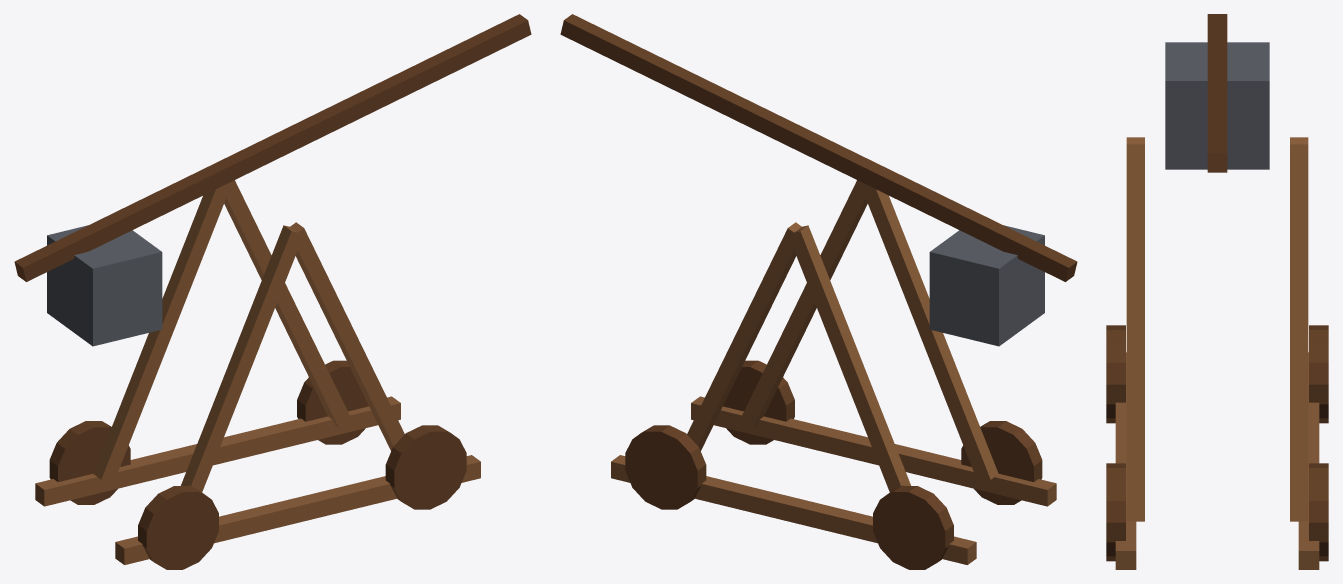
Rendered from SM_Siege_Trebuchet_A.fbx.
The picture shows the model from 3 angles, left to right: view 1: azimuth 30°, elevation 25°; view 2: azimuth 150°, elevation 25°; view 3: azimuth 270°, elevation 25°; orthographic projection. The views are drawn at different scales.
Visible parts, largest first — view 1: SM_Siege_Trebuchet_A_ThrowingArm, SM_Siege_Trebuchet_A_Counterweight, SM_Siege_Trebuchet_A_Base_R, SM_Siege_Trebuchet_A_Frame_L_1.25, SM_Siege_Trebuchet_A_Frame_L_-1.25, SM_Siege_Trebuchet_A, SM_Siege_Trebuchet_A_Wheel_2.5_-1.55, SM_Siege_Trebuchet_A_Wheel_-2.5_-1.55, SM_Siege_Trebuchet_A_Frame_R_1.25, SM_Siege_Trebuchet_A_Frame_R_-1.25, SM_Siege_Trebuchet_A_Wheel_-2.5_1.55, SM_Siege_Trebuchet_A_Wheel_2.5_1.55; view 2: SM_Siege_Trebuchet_A_ThrowingArm, SM_Siege_Trebuchet_A_Counterweight, SM_Siege_Trebuchet_A, SM_Siege_Trebuchet_A_Frame_L_-1.25, SM_Siege_Trebuchet_A_Frame_L_1.25, SM_Siege_Trebuchet_A_Base_R, SM_Siege_Trebuchet_A_Wheel_2.5_1.55, SM_Siege_Trebuchet_A_Wheel_-2.5_1.55, SM_Siege_Trebuchet_A_Frame_R_-1.25, SM_Siege_Trebuchet_A_Frame_R_1.25, SM_Siege_Trebuchet_A_Wheel_-2.5_-1.55, SM_Siege_Trebuchet_A_Wheel_2.5_-1.55; view 3: SM_Siege_Trebuchet_A_Counterweight, SM_Siege_Trebuchet_A_Frame_R_-1.25, SM_Siege_Trebuchet_A_Frame_R_1.25, SM_Siege_Trebuchet_A_ThrowingArm, SM_Siege_Trebuchet_A_Wheel_-2.5_-1.55, SM_Siege_Trebuchet_A_Wheel_-2.5_1.55, SM_Siege_Trebuchet_A_Wheel_2.5_-1.55, SM_Siege_Trebuchet_A_Wheel_2.5_1.55, SM_Siege_Trebuchet_A, SM_Siege_Trebuchet_A_Base_R.
Part boxes in pixels (x1,y1,x2,y2): SM_Siege_Trebuchet_A_ThrowingArm: (14, 14, 531, 281); SM_Siege_Trebuchet_A_Counterweight: (47, 225, 162, 346); SM_Siege_Trebuchet_A_Base_R: (35, 396, 400, 506); SM_Siege_Trebuchet_A_Frame_L_1.25: (93, 187, 226, 482); SM_Siege_Trebuchet_A_Frame_L_-1.25: (181, 225, 297, 492); SM_Siege_Trebuchet_A: (115, 455, 480, 564); SM_Siege_Trebuchet_A_Wheel_2.5_-1.55: (385, 425, 466, 509); SM_Siege_Trebuchet_A_Wheel_-2.5_-1.55: (138, 485, 218, 569); SM_Siege_Trebuchet_A_Frame_R_1.25: (221, 180, 351, 427); SM_Siege_Trebuchet_A_Frame_R_-1.25: (290, 222, 404, 450); SM_Siege_Trebuchet_A_Wheel_-2.5_1.55: (49, 421, 130, 504); SM_Siege_Trebuchet_A_Wheel_2.5_1.55: (297, 360, 368, 444); SM_Siege_Trebuchet_A_ThrowingArm: (560, 14, 1077, 281); SM_Siege_Trebuchet_A_Counterweight: (929, 225, 1044, 346); SM_Siege_Trebuchet_A: (691, 396, 1056, 506); SM_Siege_Trebuchet_A_Frame_L_-1.25: (861, 182, 998, 482); SM_Siege_Trebuchet_A_Frame_L_1.25: (788, 225, 910, 492); SM_Siege_Trebuchet_A_Base_R: (611, 455, 976, 564); SM_Siege_Trebuchet_A_Wheel_2.5_1.55: (625, 425, 706, 509); SM_Siege_Trebuchet_A_Wheel_-2.5_1.55: (873, 485, 953, 569); SM_Siege_Trebuchet_A_Frame_R_-1.25: (740, 180, 867, 427); SM_Siege_Trebuchet_A_Frame_R_1.25: (687, 222, 801, 450); SM_Siege_Trebuchet_A_Wheel_-2.5_-1.55: (961, 421, 1042, 504); SM_Siege_Trebuchet_A_Wheel_2.5_-1.55: (723, 360, 794, 444); SM_Siege_Trebuchet_A_Counterweight: (1165, 42, 1269, 169); SM_Siege_Trebuchet_A_Frame_R_-1.25: (1126, 144, 1144, 521); SM_Siege_Trebuchet_A_Frame_R_1.25: (1290, 144, 1308, 521); SM_Siege_Trebuchet_A_ThrowingArm: (1207, 14, 1227, 172); SM_Siege_Trebuchet_A_Wheel_-2.5_-1.55: (1106, 325, 1125, 423); SM_Siege_Trebuchet_A_Wheel_-2.5_1.55: (1309, 325, 1328, 423); SM_Siege_Trebuchet_A_Wheel_2.5_-1.55: (1106, 463, 1125, 561); SM_Siege_Trebuchet_A_Wheel_2.5_1.55: (1309, 463, 1328, 561); SM_Siege_Trebuchet_A: (1115, 352, 1136, 569); SM_Siege_Trebuchet_A_Base_R: (1298, 352, 1319, 569).
Size of what is drawn, in the model's own units: 10.27 by 3.4 by 8.15.
